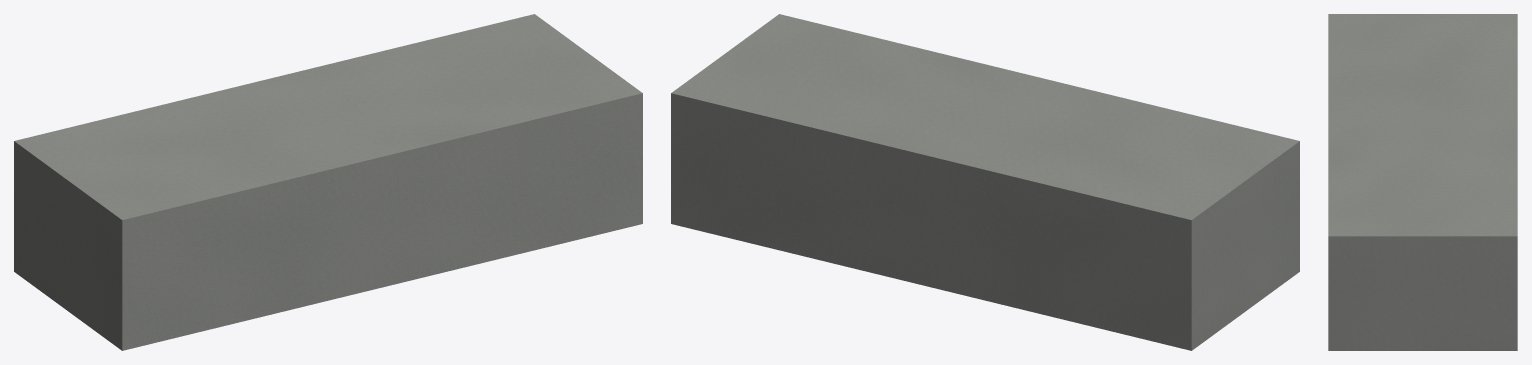
The model's file is Curb_Short.fbx.
3 views of the same model, side by side, from view 1: azimuth 30°, elevation 25°; view 2: azimuth 150°, elevation 25°; view 3: azimuth 270°, elevation 25° (orthographic). The views are drawn at different scales.
Visible parts, largest first — view 1: Curb_Short; view 2: Curb_Short; view 3: Curb_Short.
Boxes of the visible parts, x1,y1,x2,y2 form: Curb_Short: (14,14,642,350); Curb_Short: (671,14,1299,350); Curb_Short: (1328,14,1517,350).
Size of the model in its own units: 0.5 by 0.12 by 0.18.
Materials: 1 (1 with a texture image).
